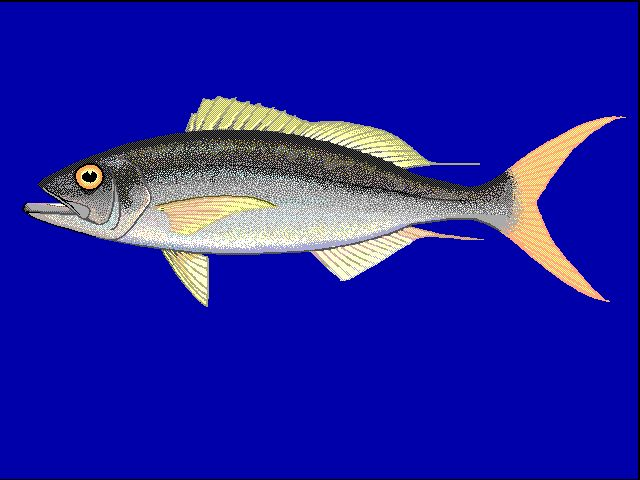fish: (21, 95, 622, 306)
